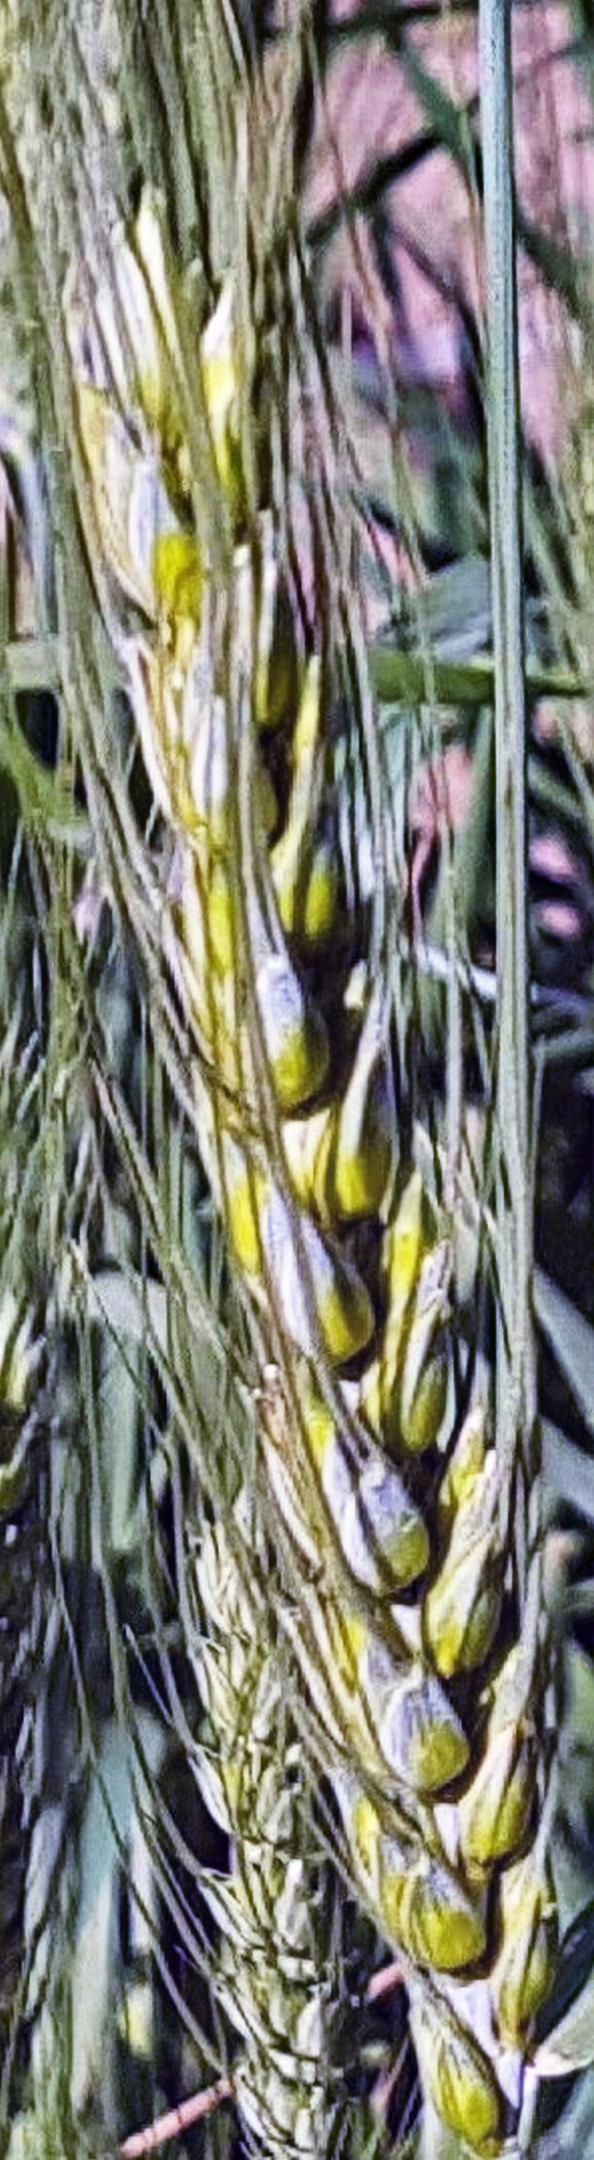Healthy Wheat: (66, 202, 594, 1918)
